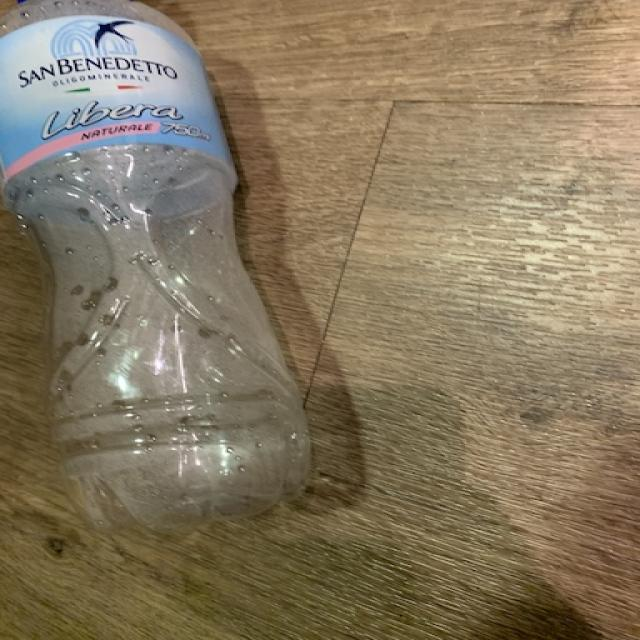PET: (1, 1, 324, 545)
